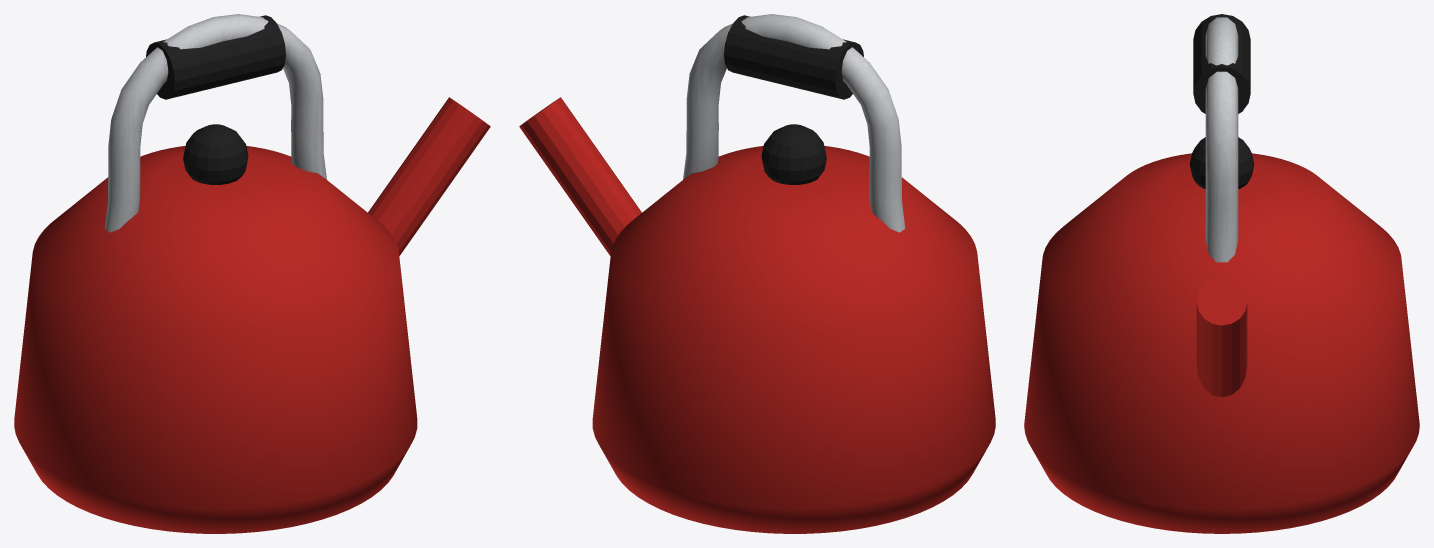
File: stovetop-red-enamel.glb
The picture shows the model from 3 angles, left to right: view 1: azimuth 30°, elevation 25°; view 2: azimuth 150°, elevation 25°; view 3: azimuth 270°, elevation 25°; orthographic projection.
Parts seen in each view (by area): view 1: paint_primary, steel, bakelite; view 2: paint_primary, steel, bakelite; view 3: paint_primary, steel, bakelite.
Part boxes in pixels (x1=…): paint_primary: x1=14, y1=97, x2=490, y2=533; steel: x1=104, y1=14, x2=326, y2=232; bakelite: x1=146, y1=15, x2=285, y2=184; paint_primary: x1=519, y1=97, x2=995, y2=533; steel: x1=683, y1=14, x2=905, y2=232; bakelite: x1=724, y1=15, x2=863, y2=184; paint_primary: x1=1024, y1=153, x2=1419, y2=533; steel: x1=1205, y1=17, x2=1238, y2=262; bakelite: x1=1189, y1=14, x2=1254, y2=188.
Bounding box in the file's own units: 0.2805 × 0.2632 × 0.22.
3 materials, 1 textured.
